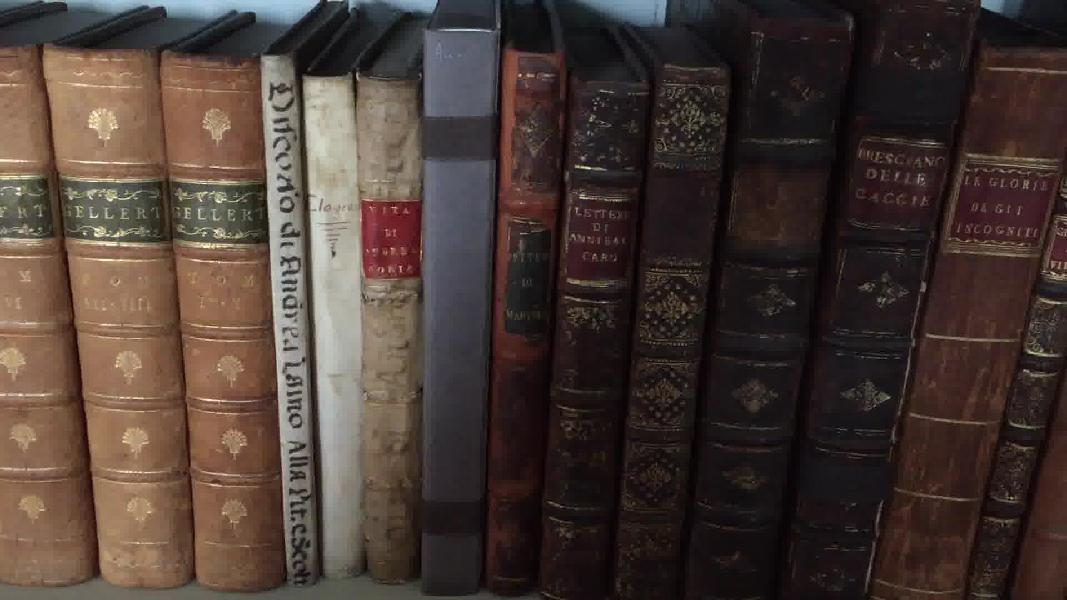Aa6-24: (255, 48, 320, 590)
Aa6-25: (297, 67, 361, 579)
Aa6-26: (356, 65, 427, 586)
Aa6-27: (425, 23, 501, 600)
Aa6-28: (490, 34, 570, 598)
Aa6-29: (540, 48, 651, 600)
Aa6-30: (609, 50, 735, 600)
Aa6-31: (675, 1, 857, 600)
Aa6-32: (782, 5, 987, 600)
Aa6-33: (881, 8, 1065, 600)
